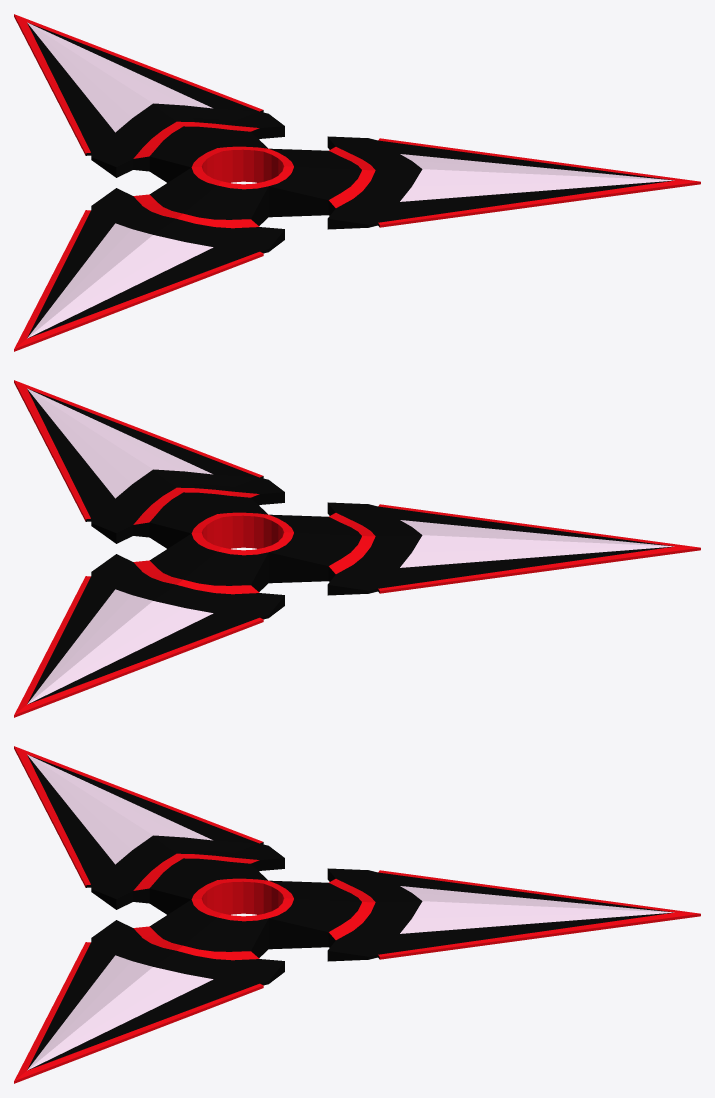
Rendered from CollectableShuriken.fbx.
The picture shows the model from 3 angles, top to bottom: view 1: azimuth 30°, elevation 25°; view 2: azimuth 150°, elevation 25°; view 3: azimuth 270°, elevation 25°; orthographic projection.
Visible parts, largest first — view 1: shurikenTest; view 2: shurikenTest; view 3: shurikenTest.
Part boxes in pixels (left/top/right/bottom): shurikenTest: left=14, top=14, right=700, bottom=351; shurikenTest: left=14, top=380, right=700, bottom=717; shurikenTest: left=14, top=746, right=700, bottom=1083.
Size of the model in its own units: 499 by 23.14 by 432.
